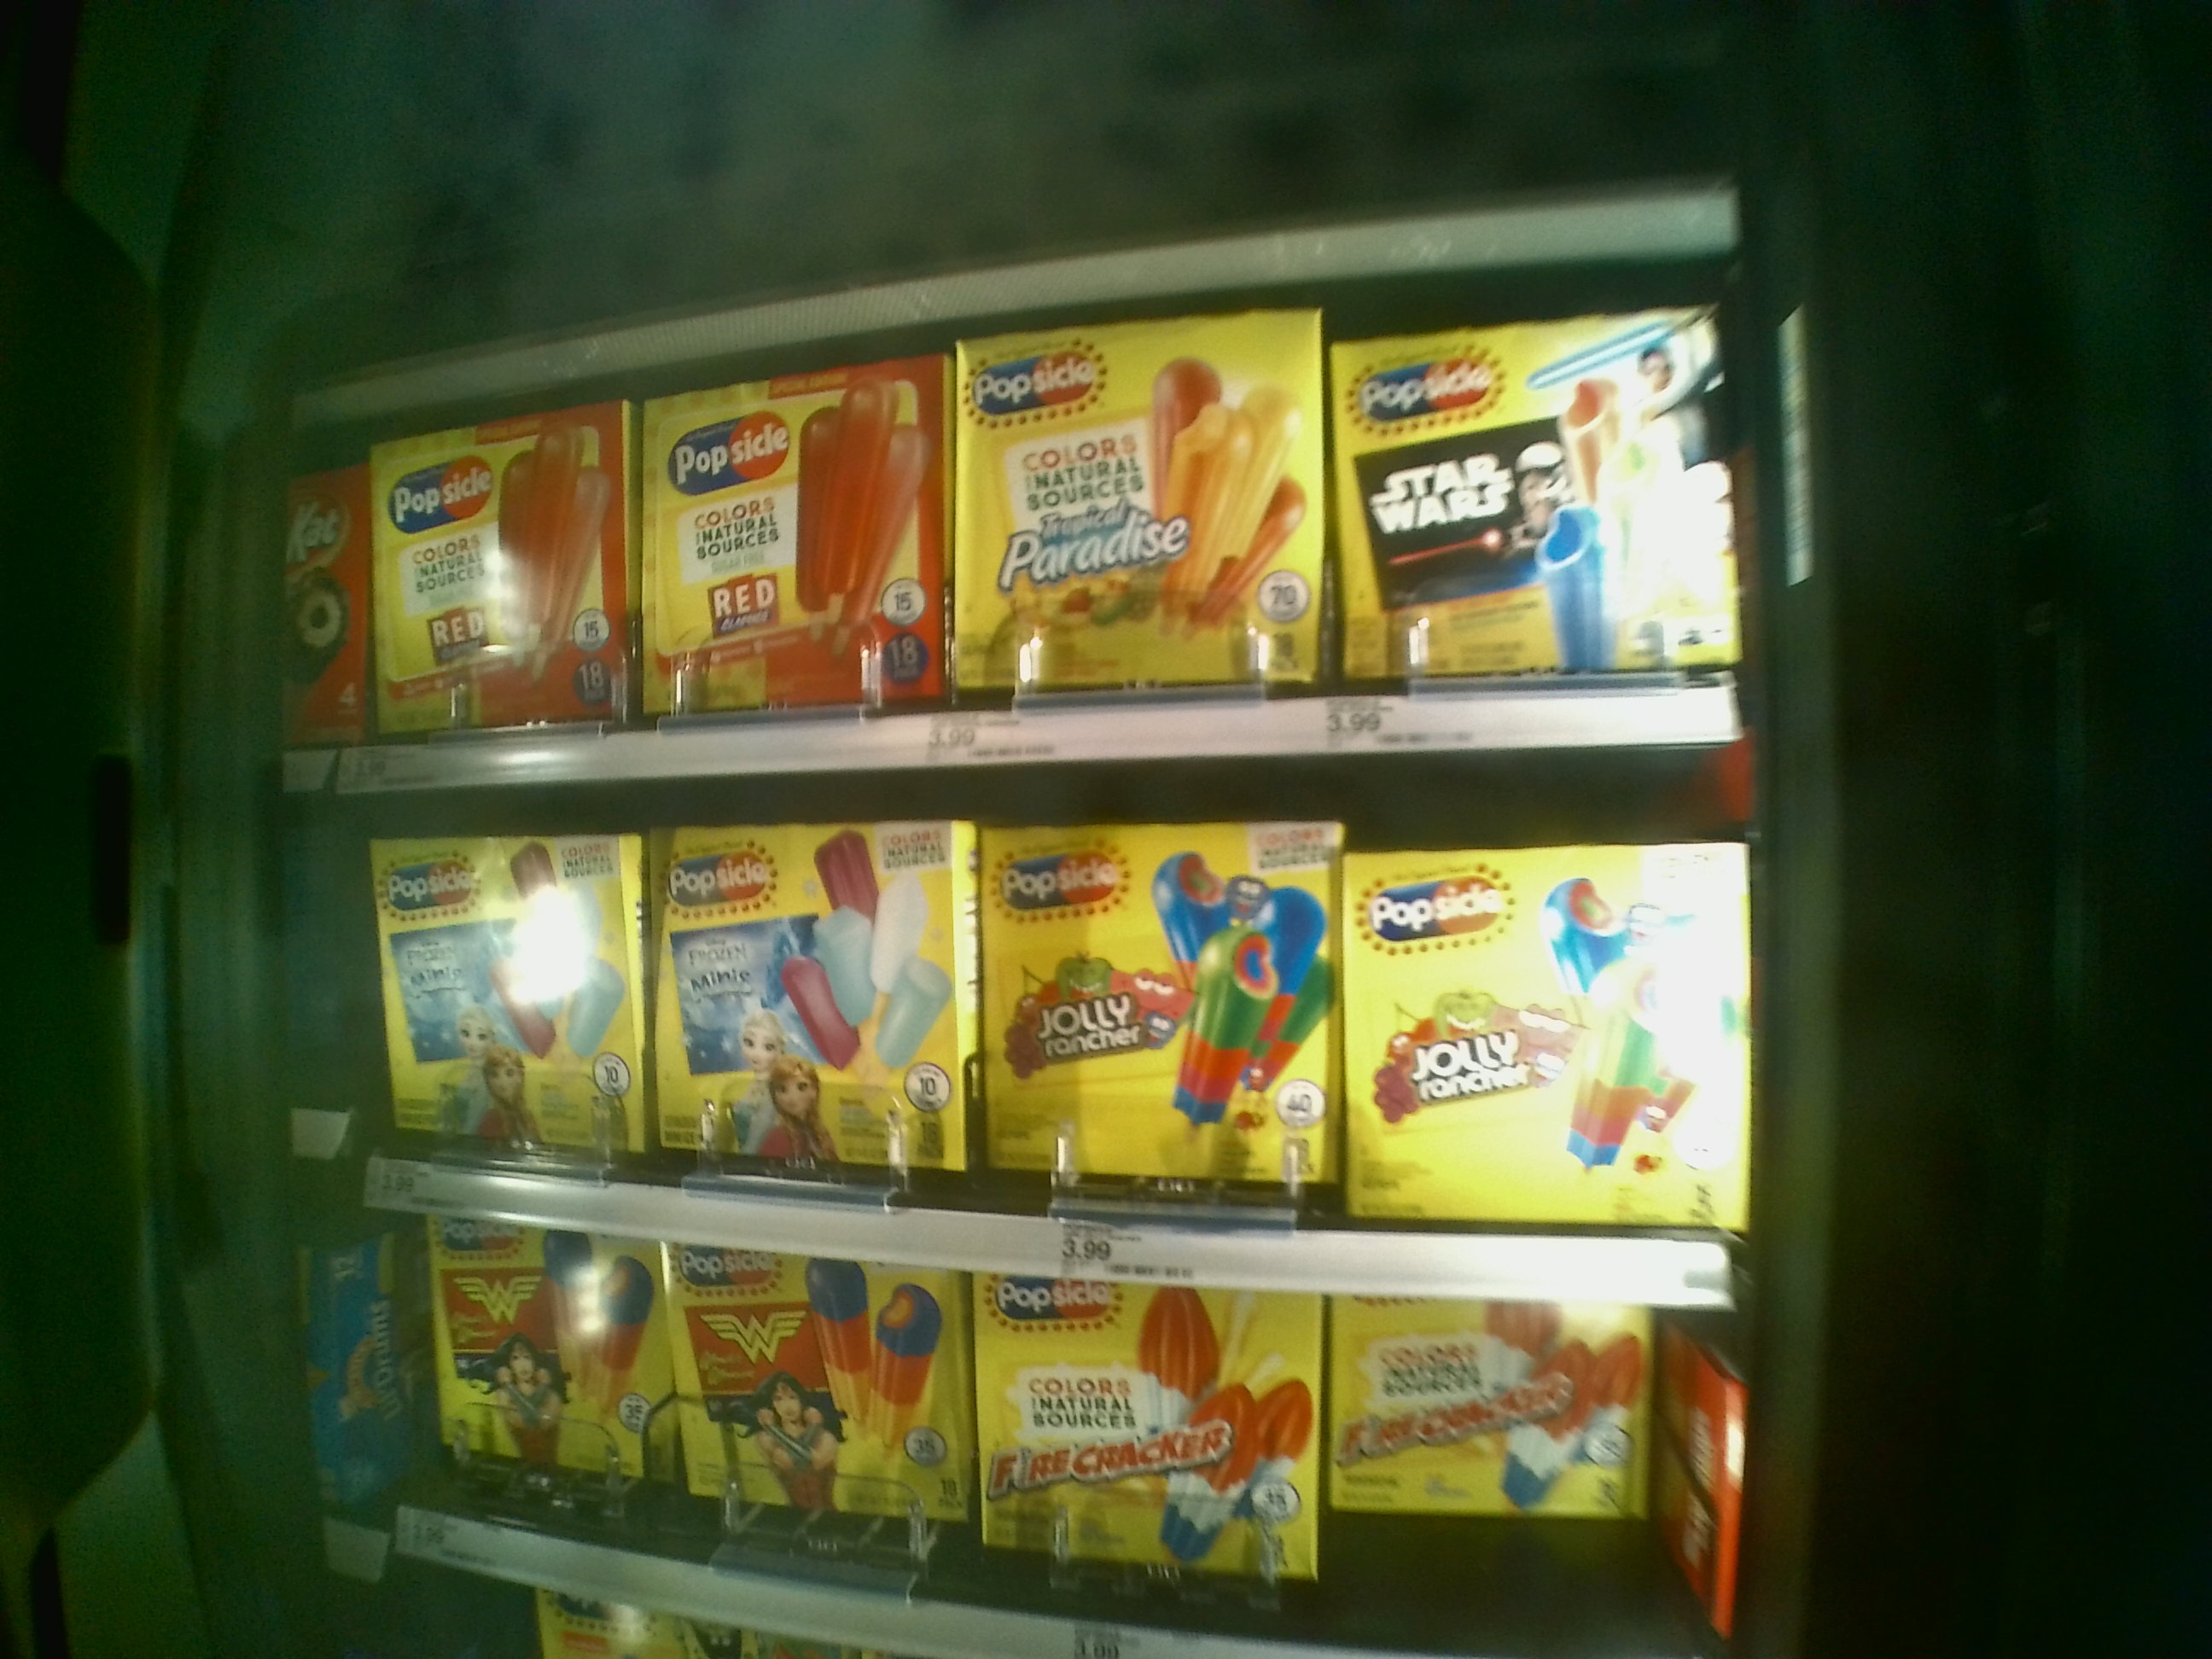frozen-food-shelf: (272, 336, 1768, 789)
